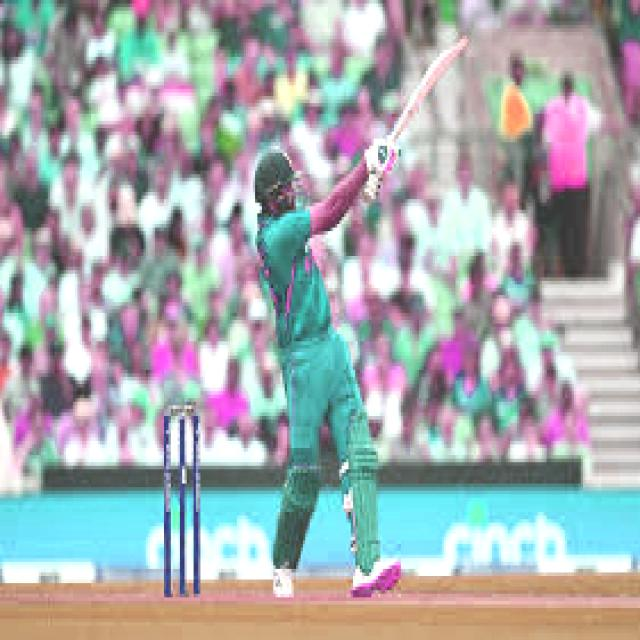toe: (450, 33, 470, 57)
